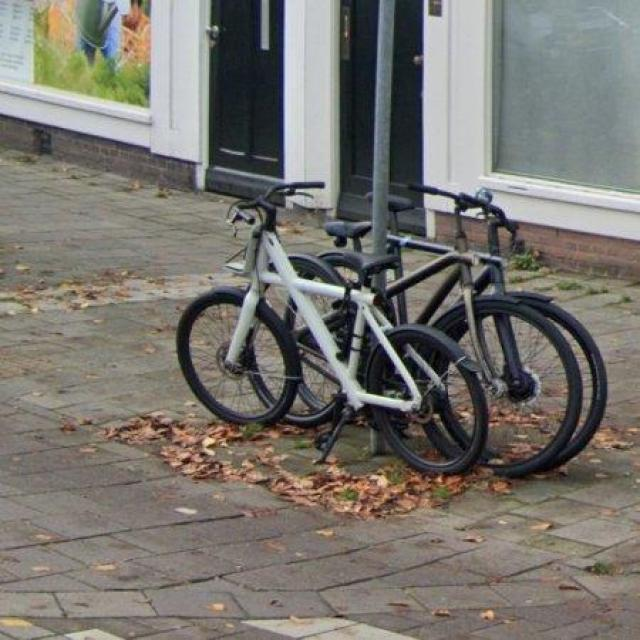bicycle: (178, 183, 610, 479)
